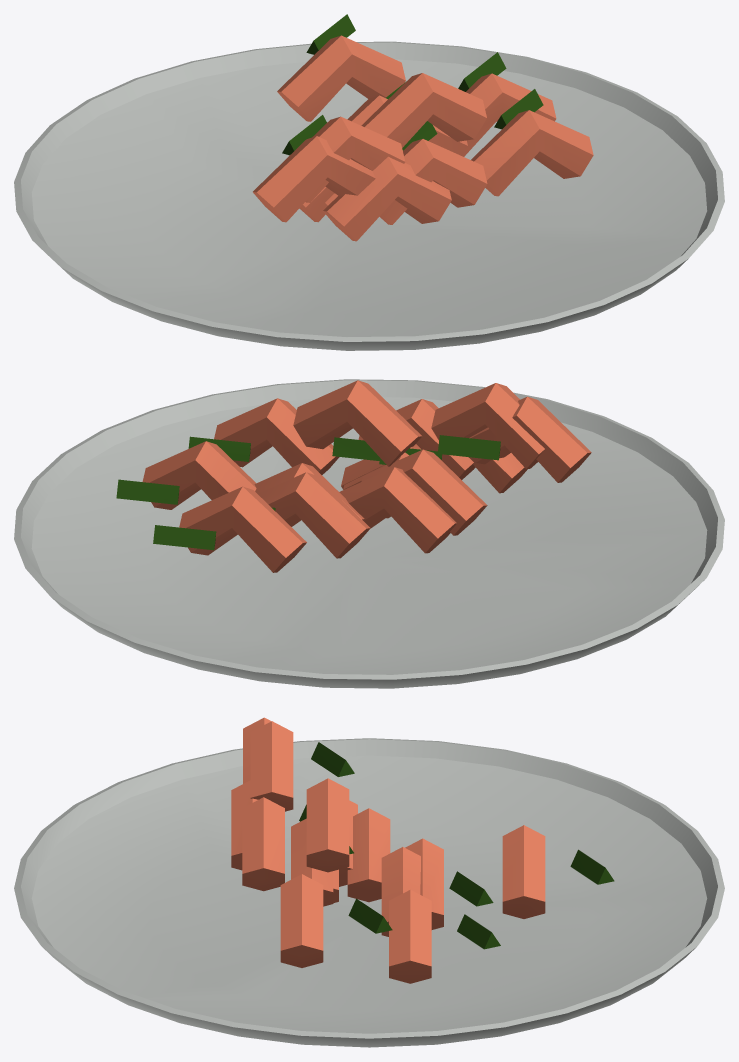
Rendered from fs-dish-longjing-shrimp.glb.
The picture shows the model from 3 angles, top to bottom: view 1: azimuth 30°, elevation 25°; view 2: azimuth 150°, elevation 25°; view 3: azimuth 270°, elevation 25°; orthographic projection.
Visible parts, largest first — view 1: plate__ceramic, food__food, sauce__sauce; view 2: plate__ceramic, food__food, sauce__sauce; view 3: plate__ceramic, food__food, sauce__sauce.
Part boxes in pixels (box(x1,y1,x2,y2)): plate__ceramic: box(14, 41, 724, 350); food__food: box(253, 35, 593, 241); sauce__sauce: box(282, 14, 543, 155); plate__ceramic: box(14, 379, 724, 688); food__food: box(142, 380, 591, 572); sauce__sauce: box(116, 435, 500, 550); plate__ceramic: box(14, 738, 724, 1047); food__food: box(231, 717, 545, 983); sauce__sauce: box(299, 742, 614, 949).
Bounding box in the file's own units: 0.26 × 0.0723 × 0.26.
